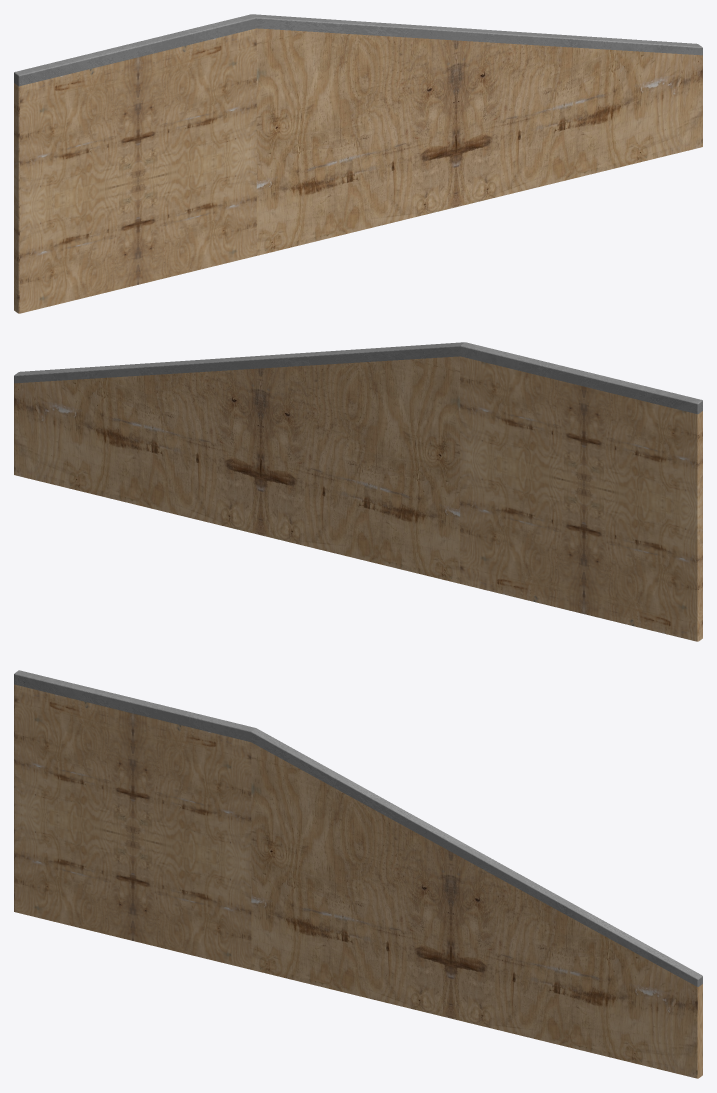
Rendered from stairBox3.fbx.
The picture shows the model from 3 angles, top to bottom: view 1: azimuth 30°, elevation 25°; view 2: azimuth 150°, elevation 25°; view 3: azimuth 330°, elevation 25°; orthographic projection.
Visible parts, largest first — view 1: stairBox.003base, stairBox.003colider; view 2: stairBox.003base, stairBox.003colider; view 3: stairBox.003base, stairBox.003colider.
Part boxes in pixels (x1,y1,x2,y2): stairBox.003base: [14, 28, 702, 313]; stairBox.003colider: [14, 14, 702, 86]; stairBox.003base: [14, 356, 702, 641]; stairBox.003colider: [14, 342, 702, 414]; stairBox.003base: [14, 684, 702, 1078]; stairBox.003colider: [14, 670, 702, 986].
Bounding box in the file's own units: 720 × 239 × 9.6.
